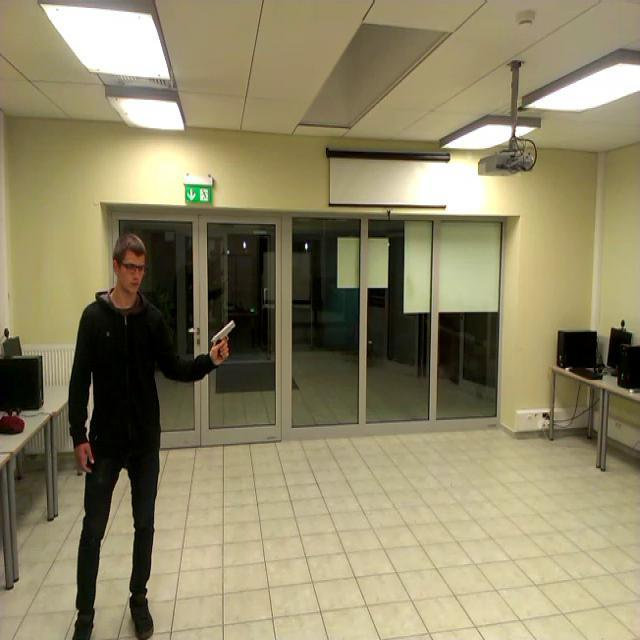Gun: (212, 318, 236, 359)
